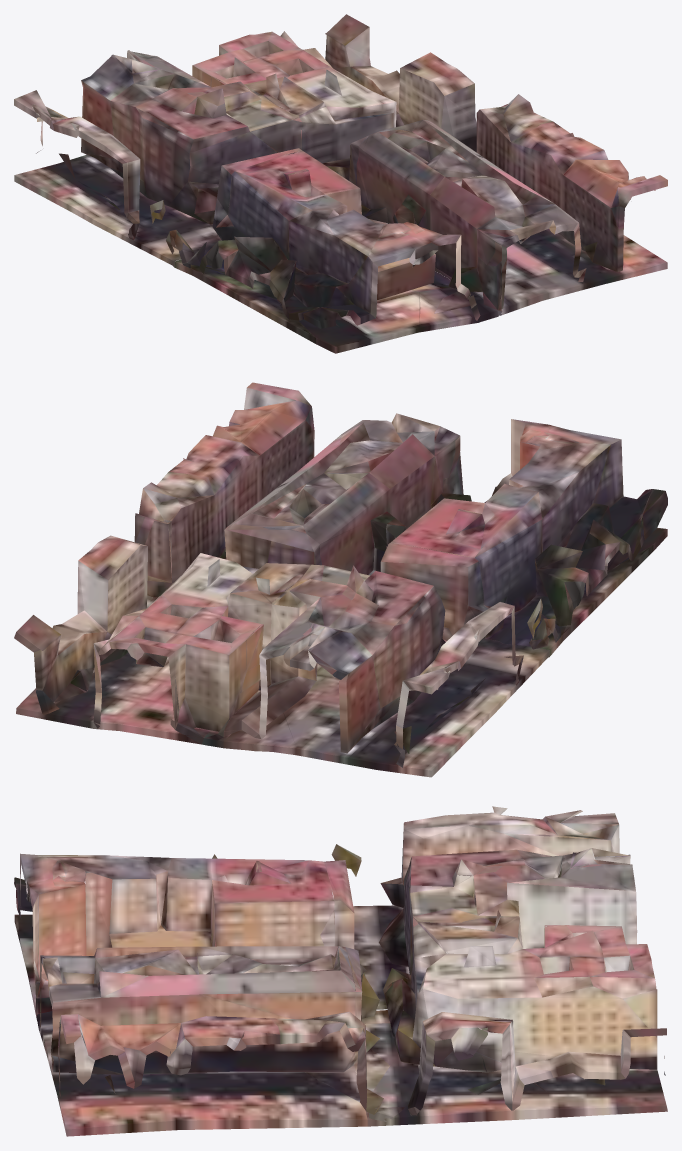
3 views of the same model, one above another, from view 1: azimuth 30°, elevation 25°; view 2: azimuth 150°, elevation 25°; view 3: azimuth 270°, elevation 25° (orthographic). The views are drawn at different scales.
Visible parts, largest first — view 1: Mesh_0; view 2: Mesh_0; view 3: Mesh_0.
Part boxes in pixels (x1,y1,x2,y2): Mesh_0: (14, 14, 667, 353); Mesh_0: (14, 382, 667, 777); Mesh_0: (14, 806, 667, 1136).
Size of the model in its own units: 133 by 37.86 by 165.
1 material, 1 textured.
